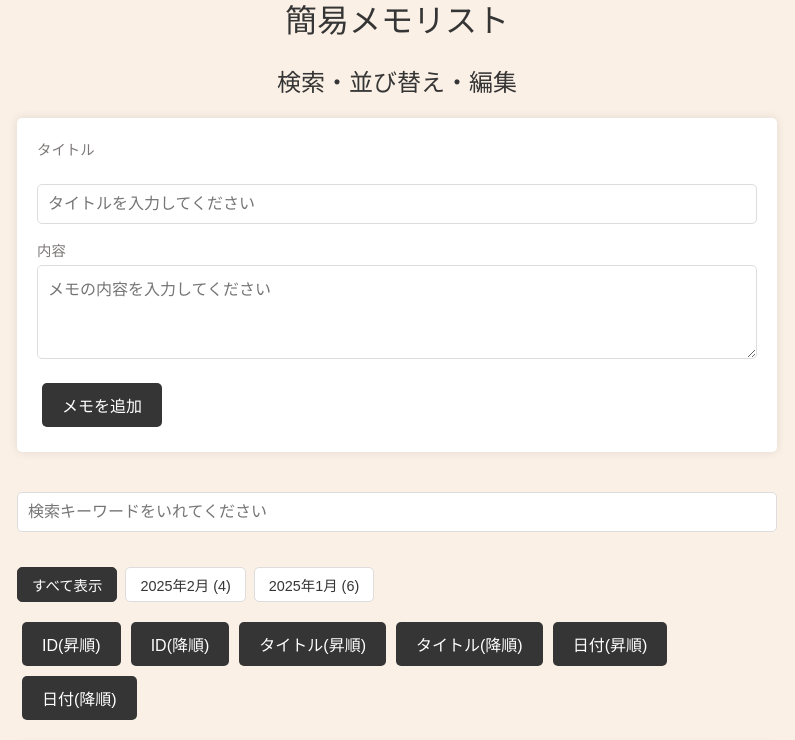
it: App（メモの追加・編集・削除・永続化） › 検索欄にキーワードを入力すると、一致するメモだけに絞り込まれる
The image size is (795, 740).
Step 1. Type "存在しないキーワードxyz" into the field with placeholder "検索キーワードをいれてください" → (397, 512), box [17,492,777,532]
(page scrolled)
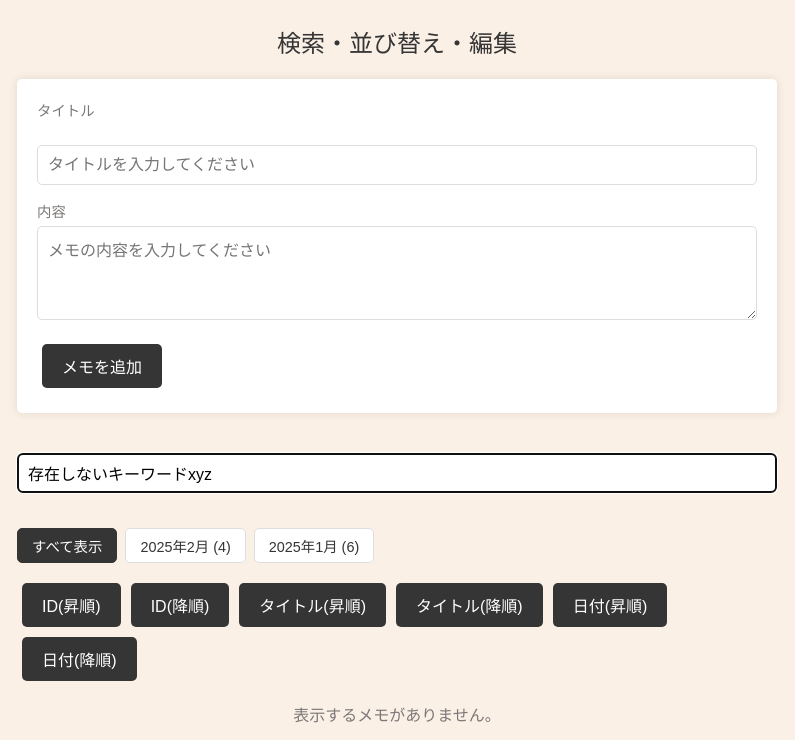
Expected: the text "表示するメモがありません。" is shown, [293,707,501,724]
